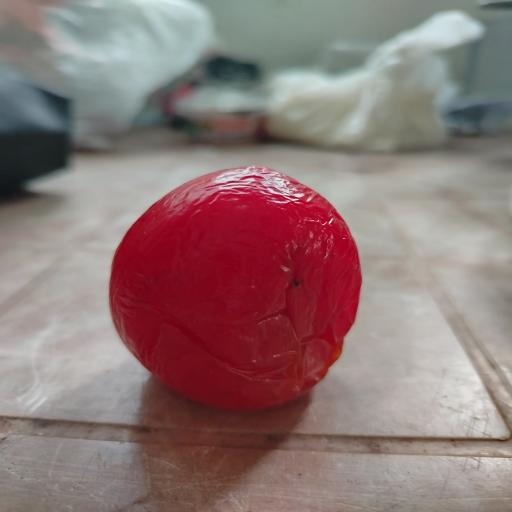spoiled: (110, 166, 361, 410)
